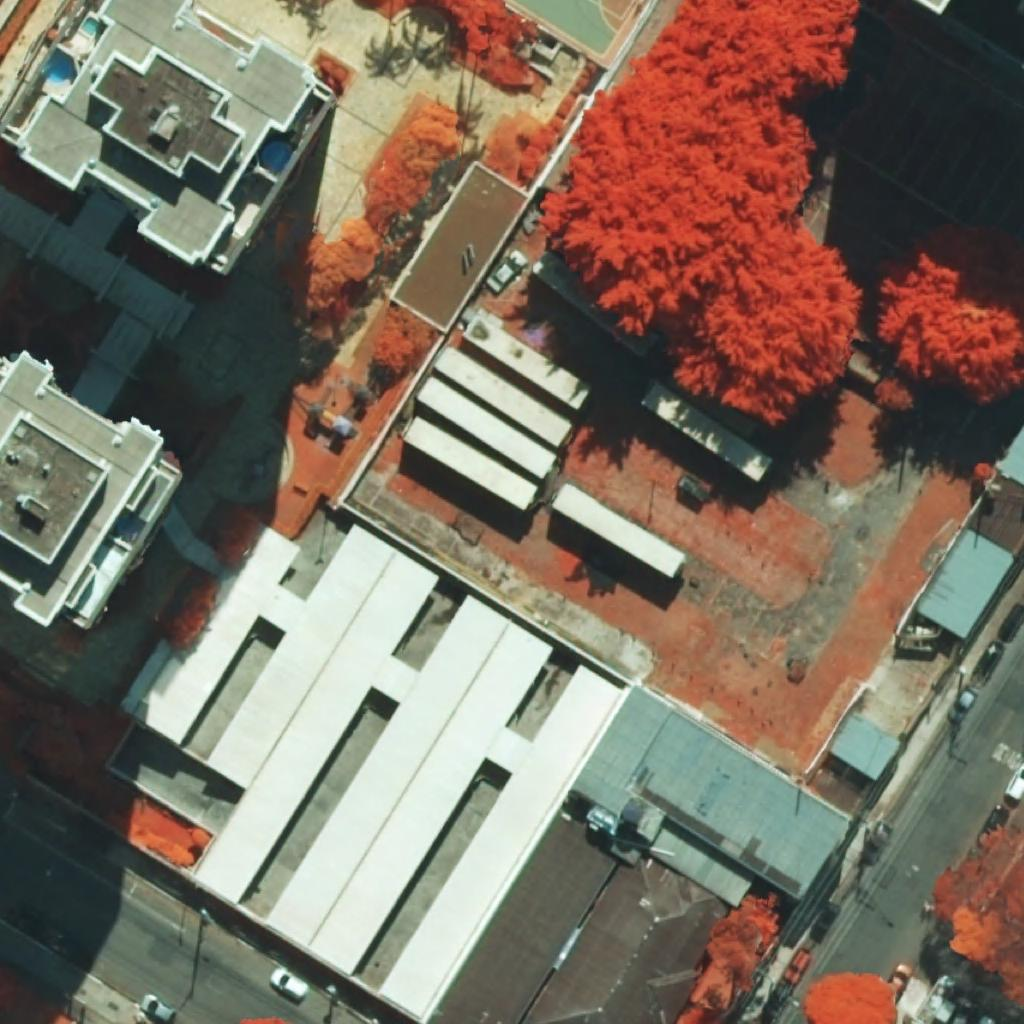pool: (43, 48, 71, 83), (262, 141, 292, 173), (82, 16, 99, 35)
